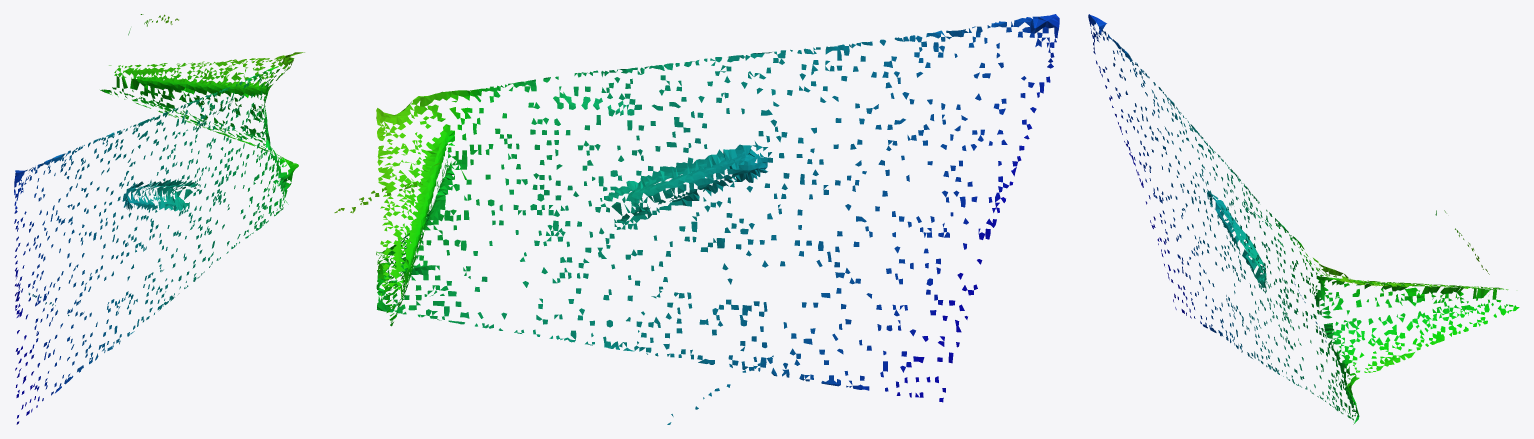
3 renders of one model, left to right at view 1: azimuth 30°, elevation 25°; view 2: azimuth 150°, elevation 25°; view 3: azimuth 270°, elevation 25°, orthographic. The views are drawn at different scales.
Visible parts, largest first — view 1: geometry_0; view 2: geometry_0; view 3: geometry_0.
Part boxes in pixels (bbox=[...]): geometry_0: bbox=[14, 14, 304, 424]; geometry_0: bbox=[334, 14, 1059, 424]; geometry_0: bbox=[1088, 14, 1519, 424].
Bounding box in the file's own units: 0.5674 × 0.3774 × 0.5377.
